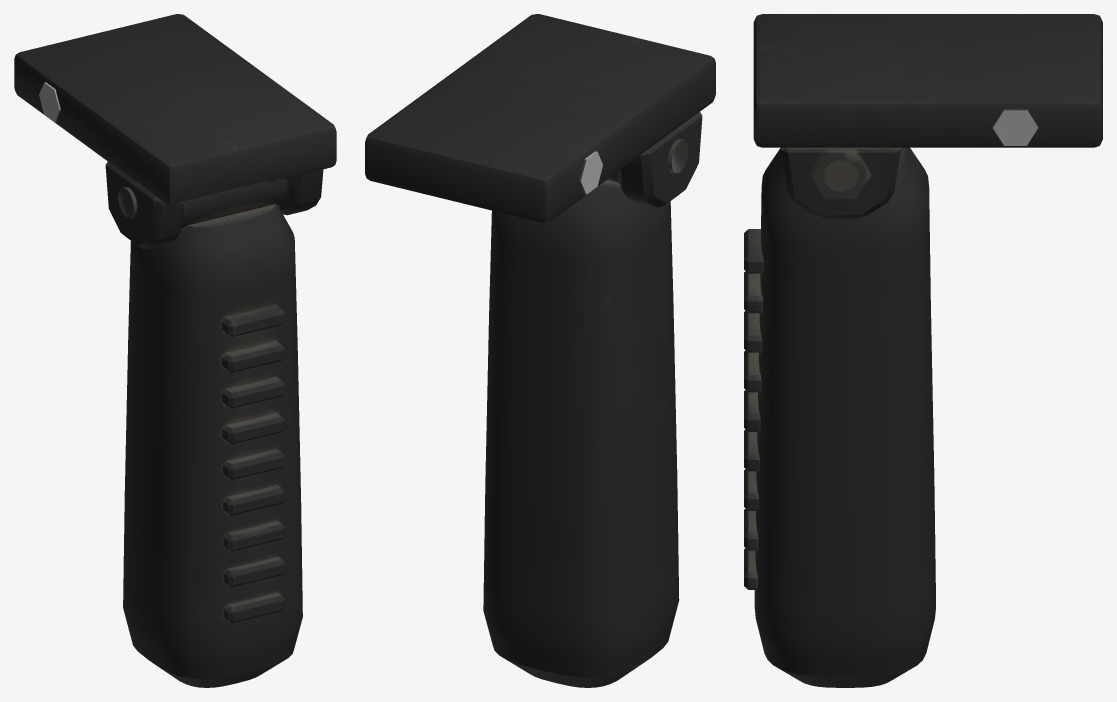
Rendered from empunhadura_dobravel.glb.
3 views of the same model, side by side, from view 1: azimuth 30°, elevation 25°; view 2: azimuth 150°, elevation 25°; view 3: azimuth 270°, elevation 25° (orthographic). The views are drawn at different scales.
Visible parts, largest first — view 1: empunhadura_dobravel_haste, empunhadura_dobravel_base; view 2: empunhadura_dobravel_haste, empunhadura_dobravel_base; view 3: empunhadura_dobravel_haste, empunhadura_dobravel_base.
Boxes of the visible parts, <box> form: empunhadura_dobravel_haste: <box>123,178,302,687</box>; empunhadura_dobravel_base: <box>14,14,336,249</box>; empunhadura_dobravel_haste: <box>483,171,679,687</box>; empunhadura_dobravel_base: <box>365,14,715,222</box>; empunhadura_dobravel_haste: <box>744,147,935,687</box>; empunhadura_dobravel_base: <box>753,14,1102,218</box>.
Bounding box in the file's own units: 0.026 × 0.077 × 0.0411.
Materials: 1 (1 with a texture image).
